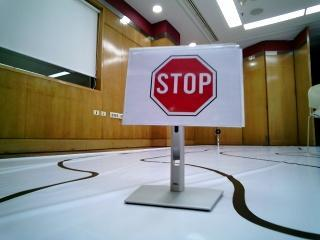stop: (128, 54, 232, 123)
